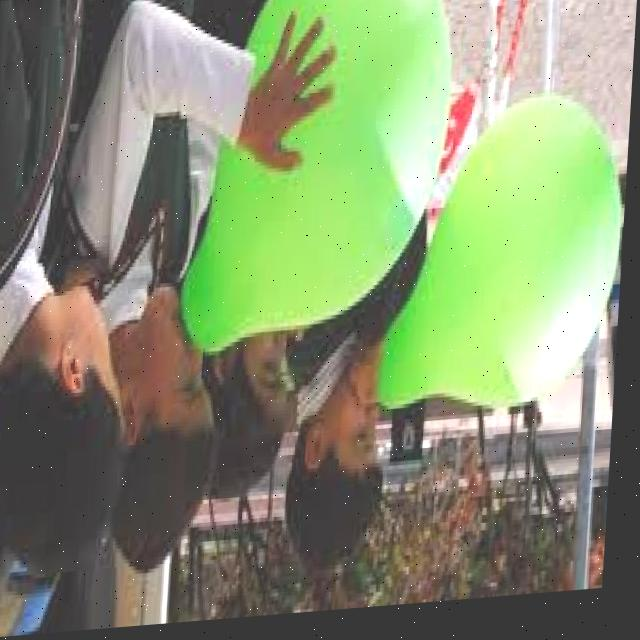balloon: (175, 0, 451, 358), (418, 115, 618, 433)
